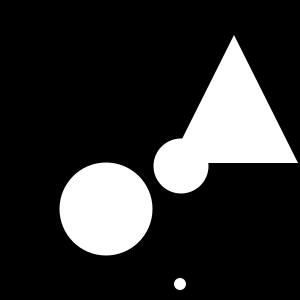rectangle: (60, 162, 152, 256), (154, 138, 209, 194), (174, 278, 186, 290)
triangle: (170, 35, 298, 163)
